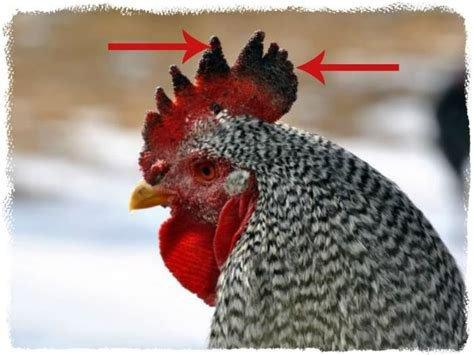AbNormal: (138, 27, 297, 183)
